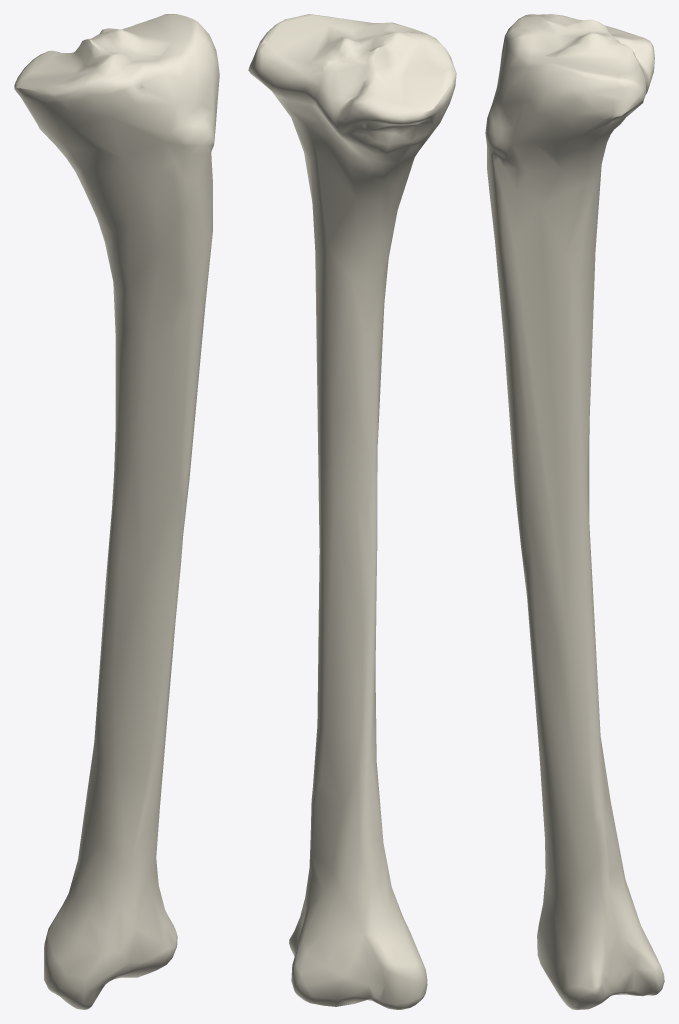
Rendered from fma24478_fj6392.glb.
The picture shows the model from 3 angles, left to right: view 1: azimuth 30°, elevation 25°; view 2: azimuth 150°, elevation 25°; view 3: azimuth 270°, elevation 25°; orthographic projection. The views are drawn at different scales.
Visible parts, largest first — view 1: FMA24478_FJ6392; view 2: FMA24478_FJ6392; view 3: FMA24478_FJ6392.
Boxes of the visible parts, x1,y1,x2,y2 form: FMA24478_FJ6392: (14, 14, 219, 1009); FMA24478_FJ6392: (248, 14, 456, 1009); FMA24478_FJ6392: (485, 14, 664, 1009).
Size of the model in its own units: 0.0743 by 0.38 by 0.063.
